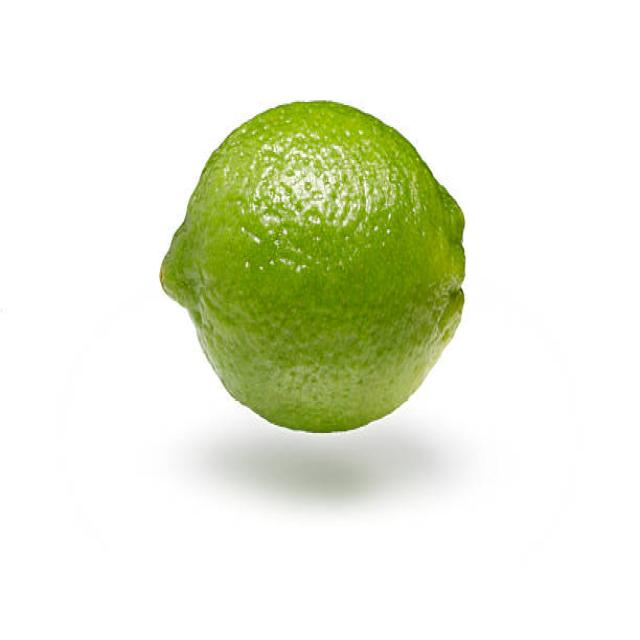Lemon: (160, 96, 470, 436)
